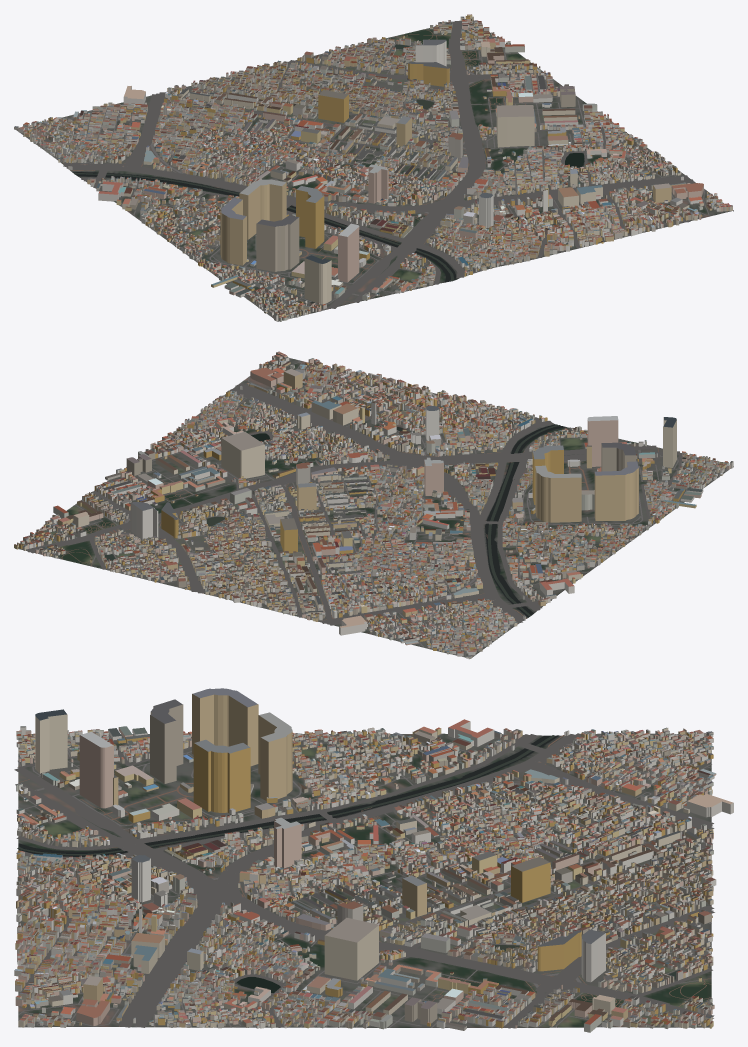
3 views of the same model, one above another, from view 1: azimuth 30°, elevation 25°; view 2: azimuth 150°, elevation 25°; view 3: azimuth 270°, elevation 25° (orthographic). The views are drawn at different scales.
Parts seen in each view (by area): view 1: walls, roofs, ground, roads, water; view 2: walls, roofs, ground, roads, water; view 3: walls, roofs, ground, roads, water.
Part boxes in pixels (x1,y1,x2,y2): walls: (14, 15, 732, 321); roofs: (14, 14, 732, 318); ground: (14, 18, 733, 321); roads: (31, 21, 715, 318); water: (73, 44, 584, 282); walls: (14, 352, 733, 659); roofs: (15, 351, 732, 656); ground: (18, 358, 733, 657); roads: (26, 360, 728, 656); water: (104, 424, 566, 617); walls: (14, 694, 733, 1032); roofs: (14, 688, 732, 1027); ground: (18, 733, 711, 1027); roads: (14, 733, 714, 1028); water: (17, 735, 683, 993).
Bounding box in the file's own units: 1468 × 143 × 1456.
